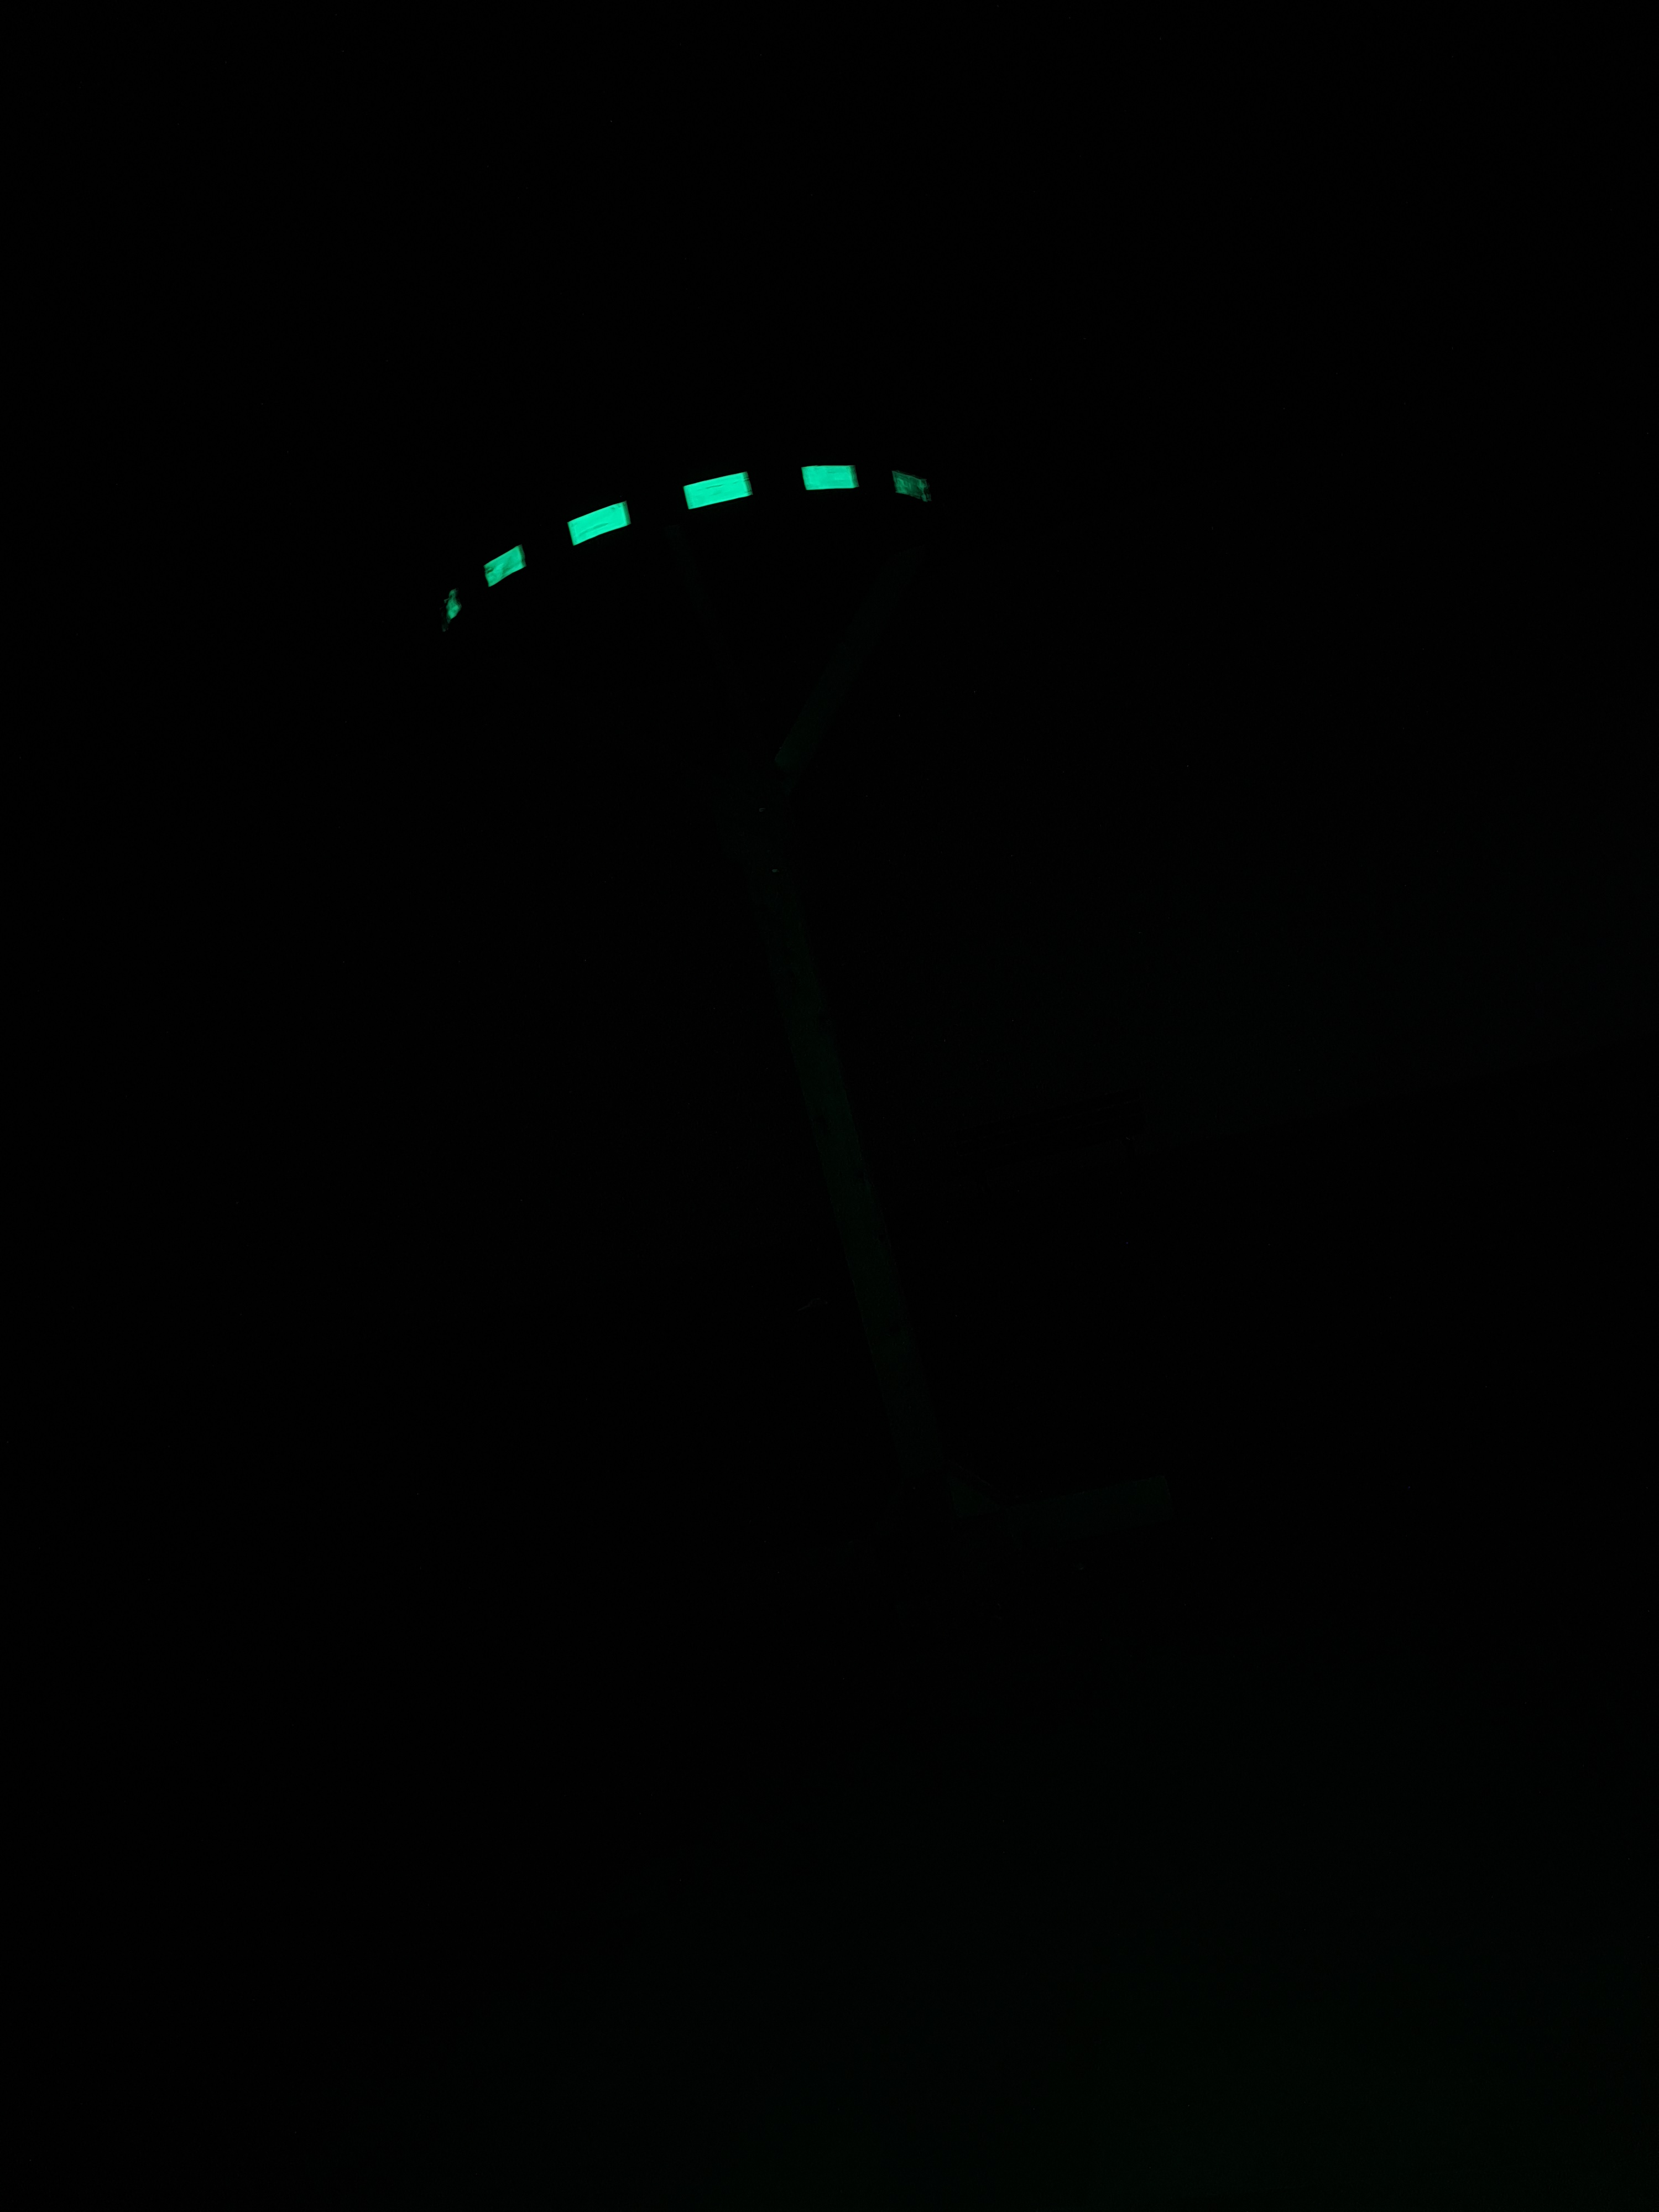hoop: (441, 453, 934, 657)
